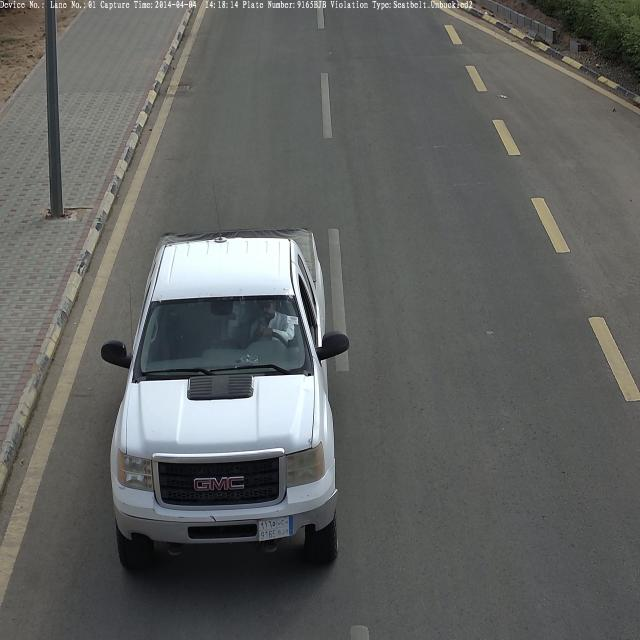person_without_seatbelt: (249, 300, 293, 346)
